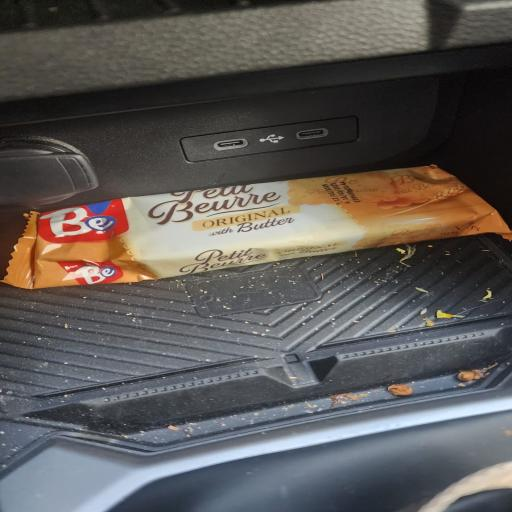petit-beurre: (0, 157, 512, 347)
